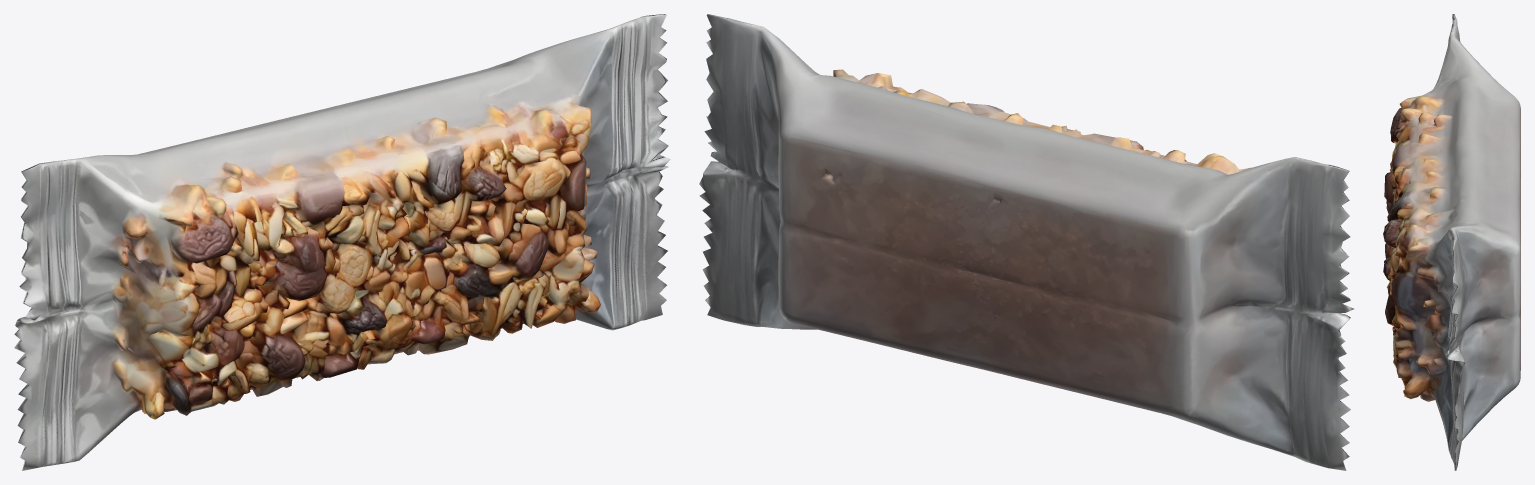
The model's file is kit-barra-cereal.glb.
3 renders of one model, left to right at view 1: azimuth 30°, elevation 25°; view 2: azimuth 150°, elevation 25°; view 3: azimuth 270°, elevation 25°, orthographic. The views are drawn at different scales.
Parts seen in each view (by area): view 1: tripo_node_1d5f18ab-731d-4036-ab4e-230279f6dbaa; view 2: tripo_node_1d5f18ab-731d-4036-ab4e-230279f6dbaa; view 3: tripo_node_1d5f18ab-731d-4036-ab4e-230279f6dbaa.
Part boxes in pixels (x1,y1,x2,y2): tripo_node_1d5f18ab-731d-4036-ab4e-230279f6dbaa: [14, 14, 670, 470]; tripo_node_1d5f18ab-731d-4036-ab4e-230279f6dbaa: [699, 14, 1354, 470]; tripo_node_1d5f18ab-731d-4036-ab4e-230279f6dbaa: [1383, 14, 1520, 470].
Size of the model in its own units: 0.9841 by 0.439 by 0.2424.
Materials: 1 (1 with a texture image).
